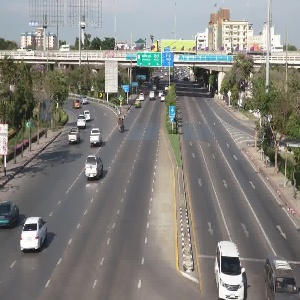car: (17, 214, 56, 261), (1, 200, 19, 228)
truck: (77, 151, 108, 186), (86, 125, 107, 146), (62, 124, 83, 145)
van: (205, 240, 254, 300)
